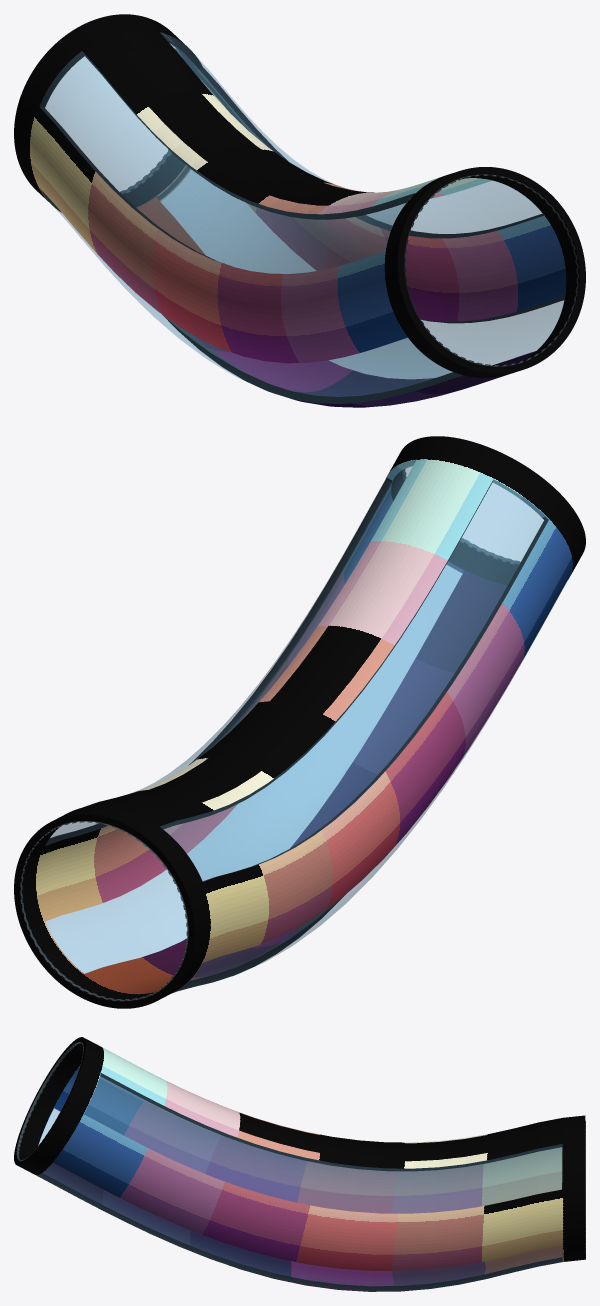
The model's file is LD50-Pipe-Up-01.glb.
3 views of the same model, one above another, from view 1: azimuth 30°, elevation 25°; view 2: azimuth 150°, elevation 25°; view 3: azimuth 270°, elevation 25° (orthographic). The views are drawn at different scales.
Visible parts, largest first — view 1: Pipe-Up-01, Pipe-Up-01-Joint; view 2: Pipe-Up-01, Pipe-Up-01-Joint; view 3: Pipe-Up-01, Pipe-Up-01-Joint.
Boxes of the visible parts, x1,y1,x2,y2 form: Pipe-Up-01: (14, 14, 585, 407); Pipe-Up-01-Joint: (120, 32, 578, 366); Pipe-Up-01: (14, 436, 585, 1008); Pipe-Up-01-Joint: (20, 469, 520, 1001); Pipe-Up-01: (14, 1037, 585, 1291); Pipe-Up-01-Joint: (16, 1042, 585, 1253).
Size of the model in its own units: 32.2 by 59.99 by 128.
Materials: 2 (2 with a texture image).
